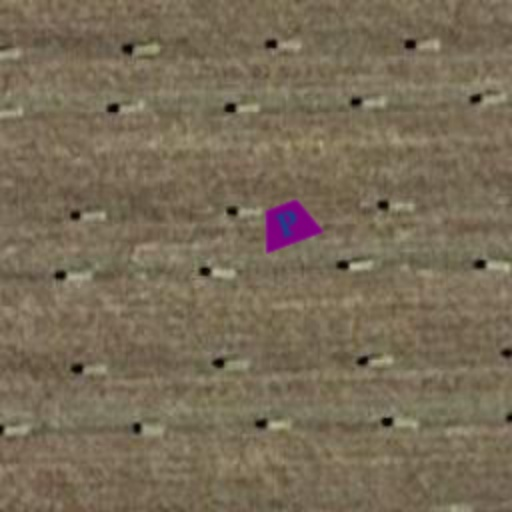trapezoid: (246, 182, 330, 266)
